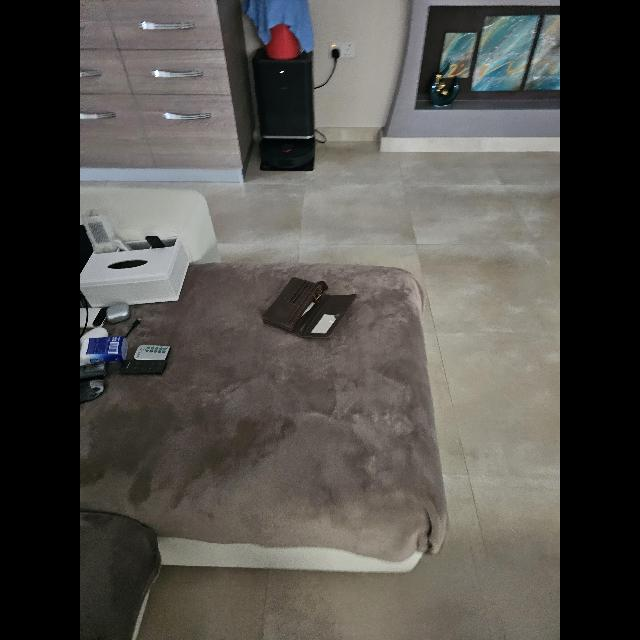Wallet: (260, 275, 356, 339)
